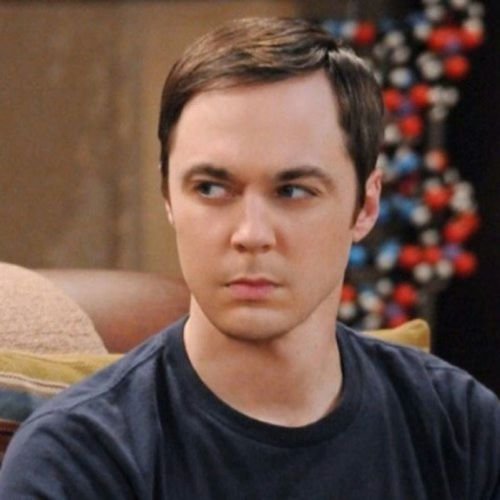angry: (162, 130, 352, 346)
